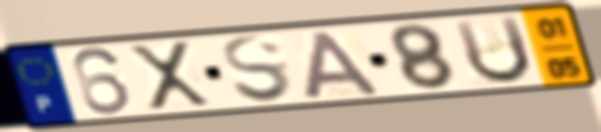6: (70, 45, 134, 118)
8: (387, 20, 458, 94)
A: (302, 29, 385, 101)
S: (218, 33, 297, 106)
U: (449, 13, 537, 88)
X: (123, 39, 216, 114)
